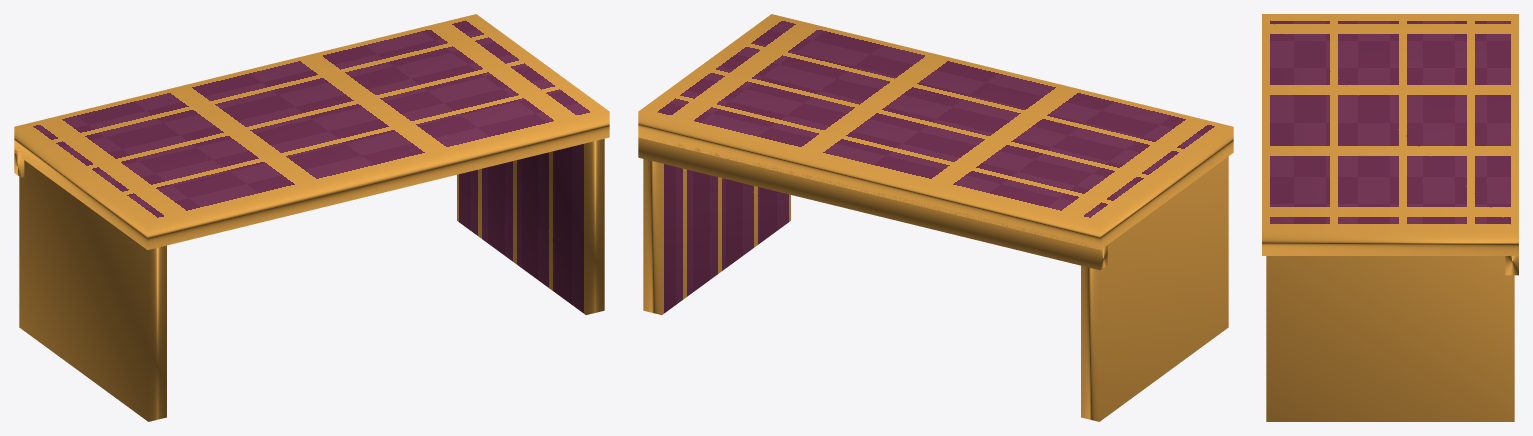
File: SM_Env_CairoAwning_B_LOD1.obj
The picture shows the model from 3 angles, left to right: view 1: azimuth 30°, elevation 25°; view 2: azimuth 150°, elevation 25°; view 3: azimuth 270°, elevation 25°; orthographic projection. The views are drawn at different scales.
Visible parts, largest first — view 1: SM_Env_CairoAwning_B_LOD1; view 2: SM_Env_CairoAwning_B_LOD1; view 3: SM_Env_CairoAwning_B_LOD1.
Part boxes in pixels (x1,y1,x2,y2): SM_Env_CairoAwning_B_LOD1: (14, 14, 609, 421); SM_Env_CairoAwning_B_LOD1: (638, 14, 1233, 421); SM_Env_CairoAwning_B_LOD1: (1262, 14, 1518, 421).
Bounding box in the file's own units: 3 × 1.24 × 1.5.
1 material, 1 textured.
